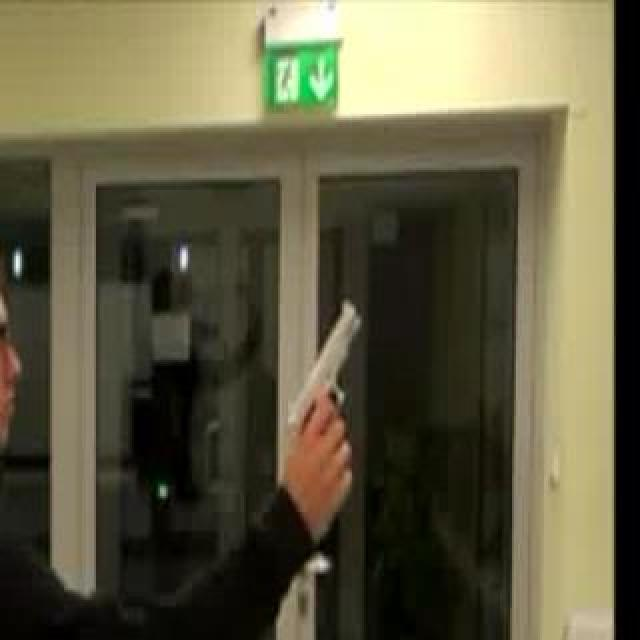Guns: (274, 295, 377, 466)
